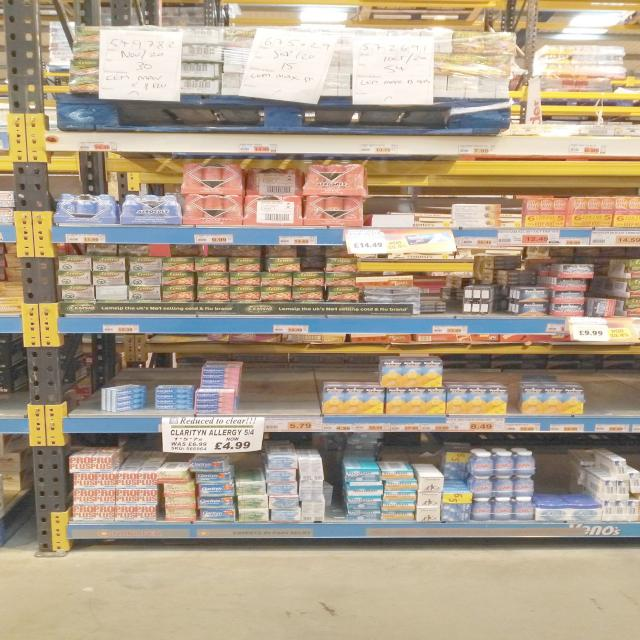empty_space: (443, 360, 622, 382), (245, 364, 321, 415), (588, 381, 640, 414), (326, 353, 374, 379), (126, 366, 194, 382), (540, 454, 568, 490)
